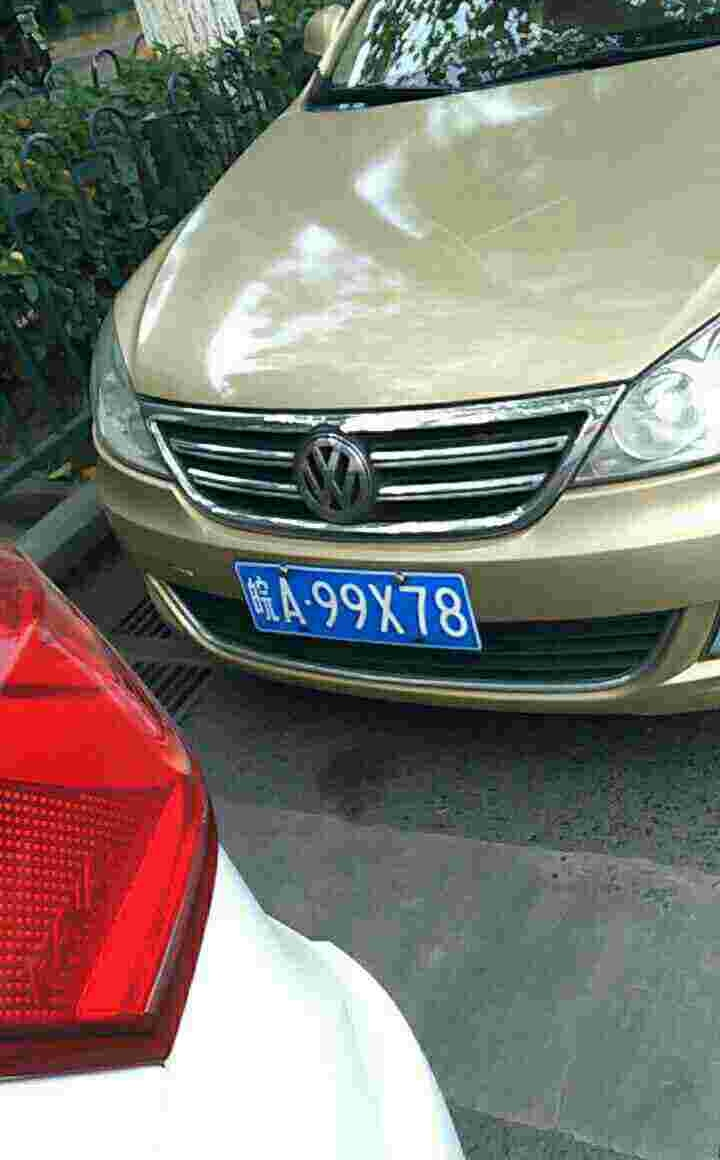plate: (229, 557, 485, 655)
